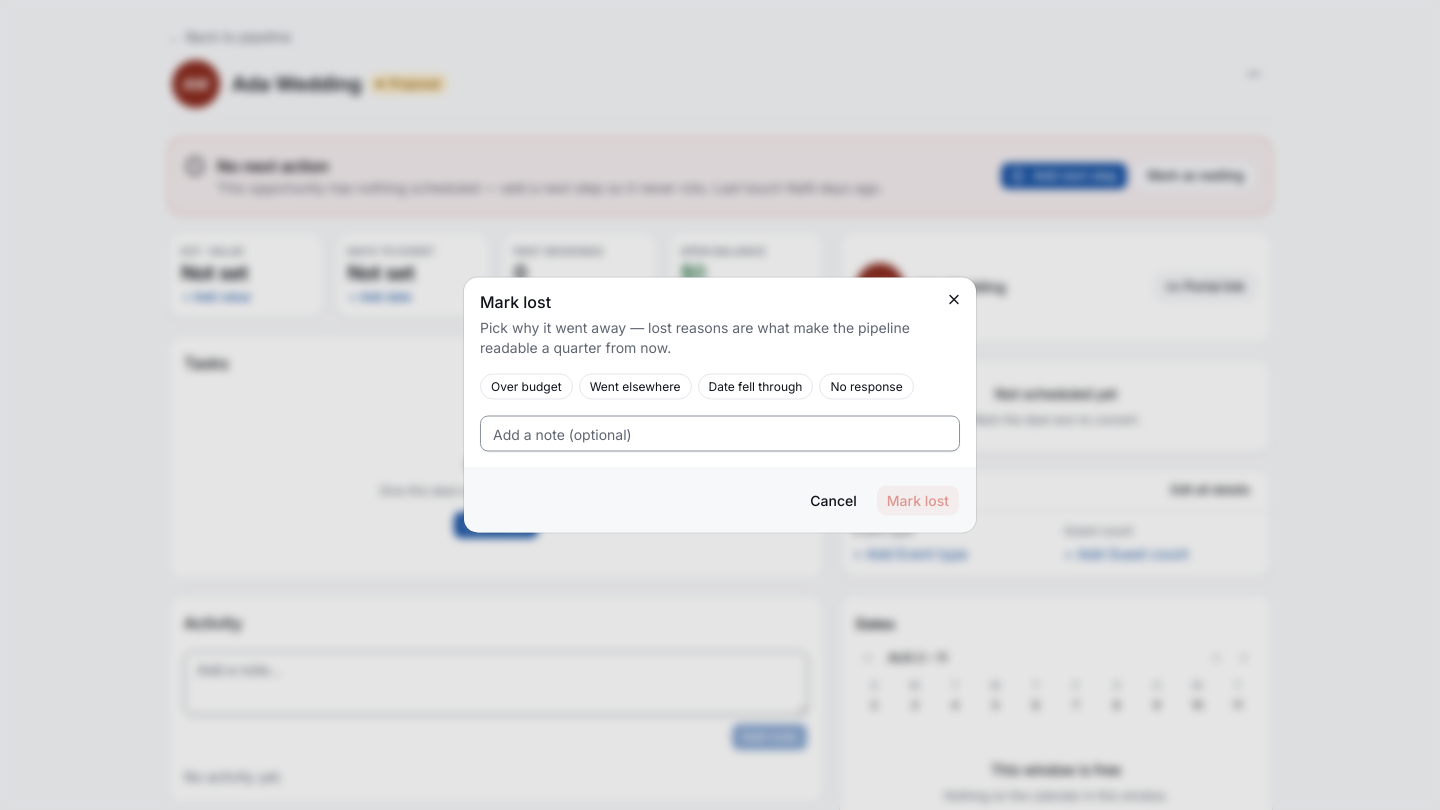
Test: OpportunityDetailClient › the ?focus=lost deep link › stays shut once dismissed, across a re-render
Step 1. Click the button "Cancel" → x=834, y=500, box 799,484 -> 868,516
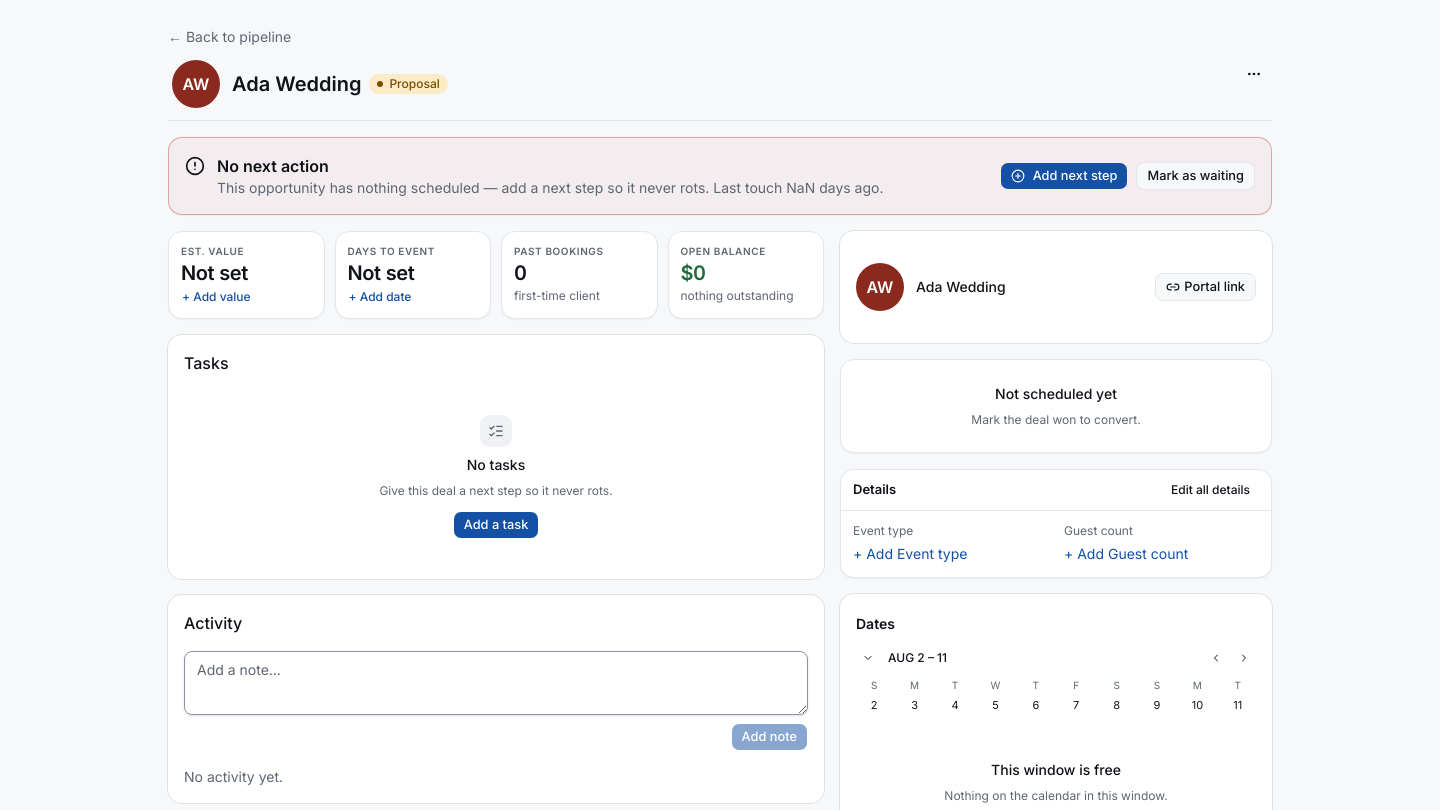
Expected: the heading "Mark lost" is gone
